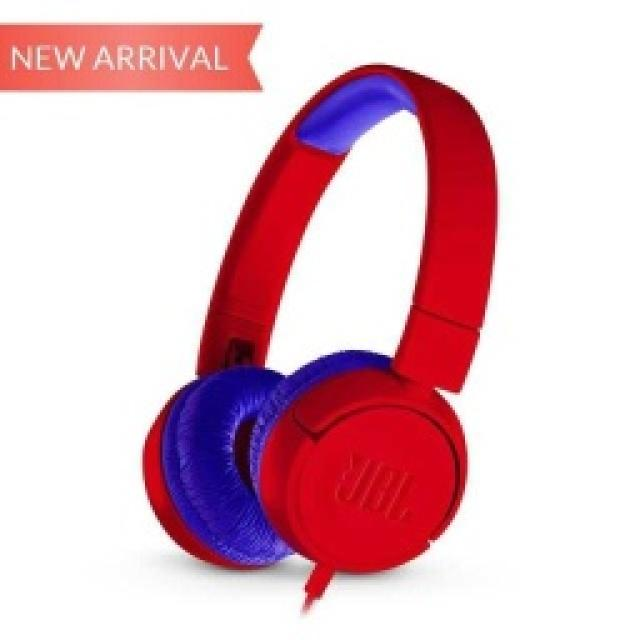headphones: (140, 60, 498, 602)
